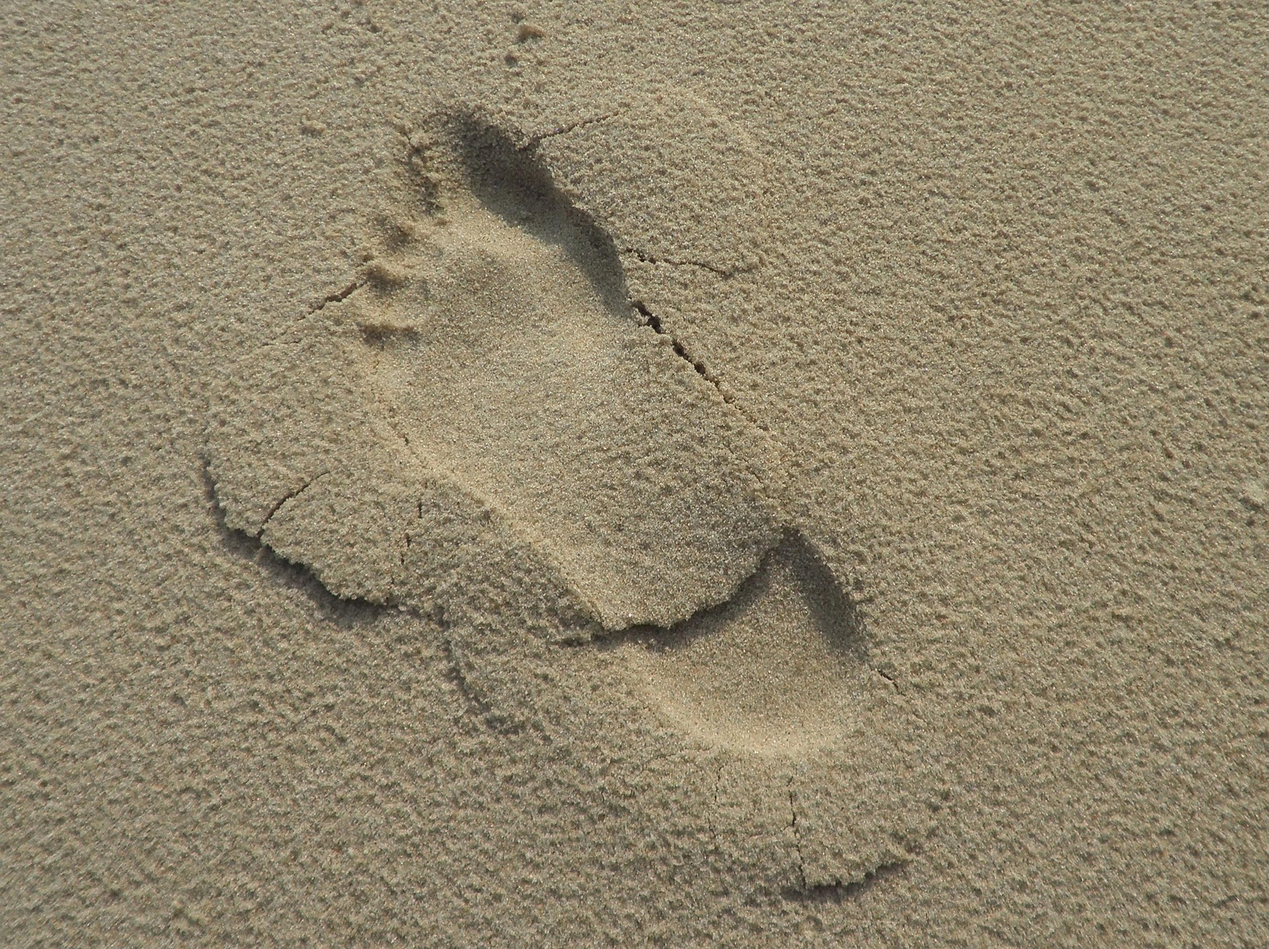human_footprint: (208, 100, 905, 889)
